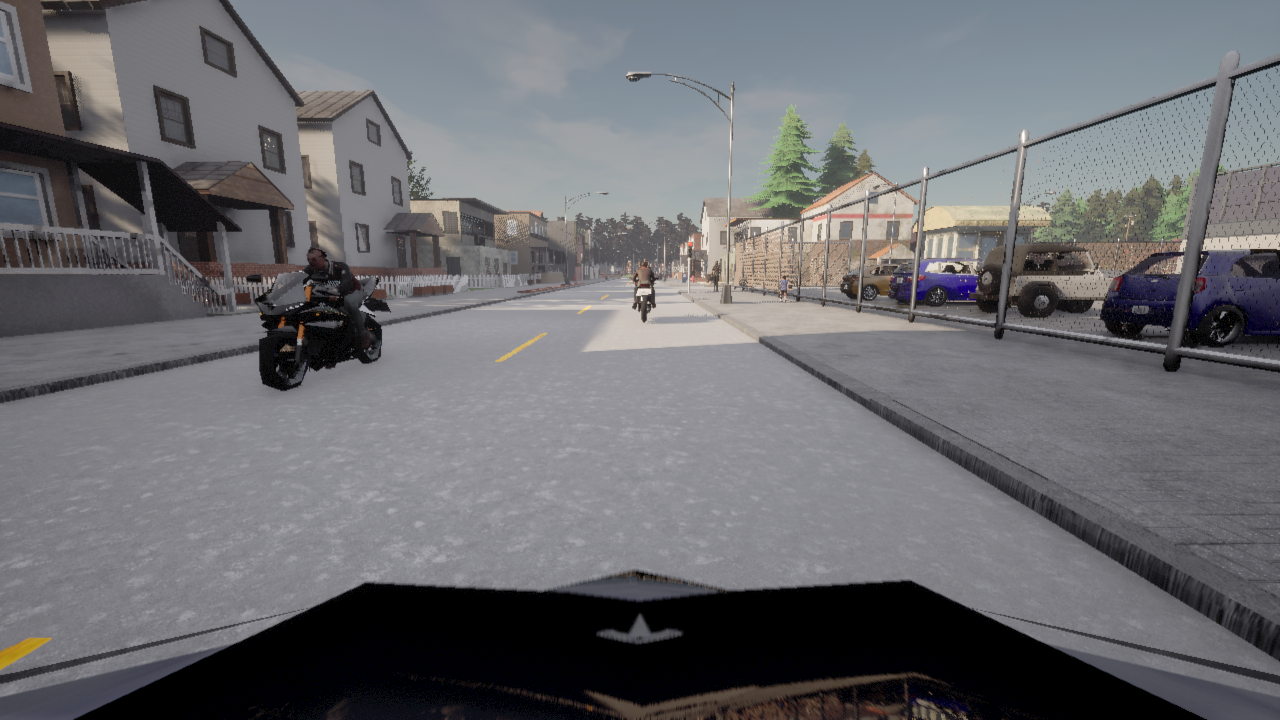cyclist: (0, 569, 1279, 719), (1099, 249, 1279, 346), (246, 270, 390, 390), (969, 243, 1126, 317), (888, 258, 1016, 305), (840, 264, 899, 300), (628, 276, 659, 322), (1008, 302, 1060, 309)
pedestrian: (711, 261, 720, 291), (779, 275, 788, 302)
